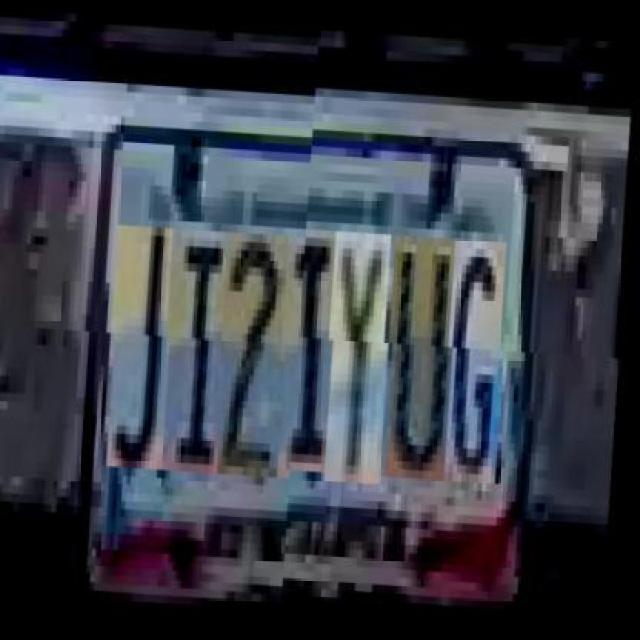2: (224, 229, 296, 473)
g: (449, 240, 514, 485)
i: (169, 225, 236, 470), (284, 232, 351, 476)
j: (113, 222, 181, 467)
u: (390, 237, 462, 481)
y: (329, 235, 398, 487)
